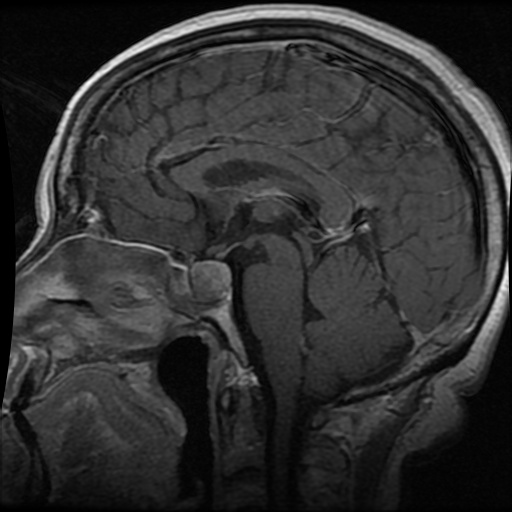pituitary: (191, 260, 233, 303)
